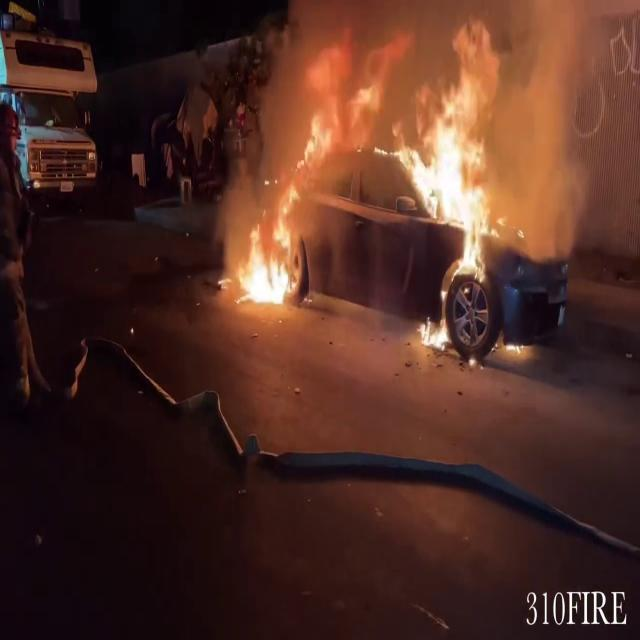Fire: (396, 36, 522, 280), (226, 186, 304, 307), (418, 308, 450, 358)
Smoke: (269, 0, 596, 244)
